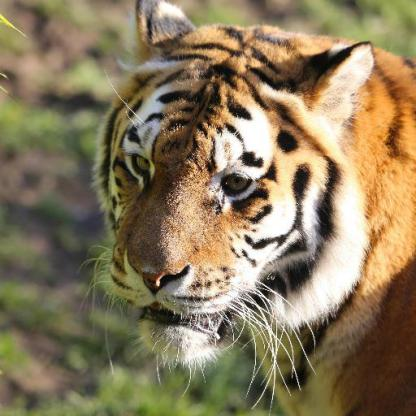tiger: (96, 17, 373, 358)
